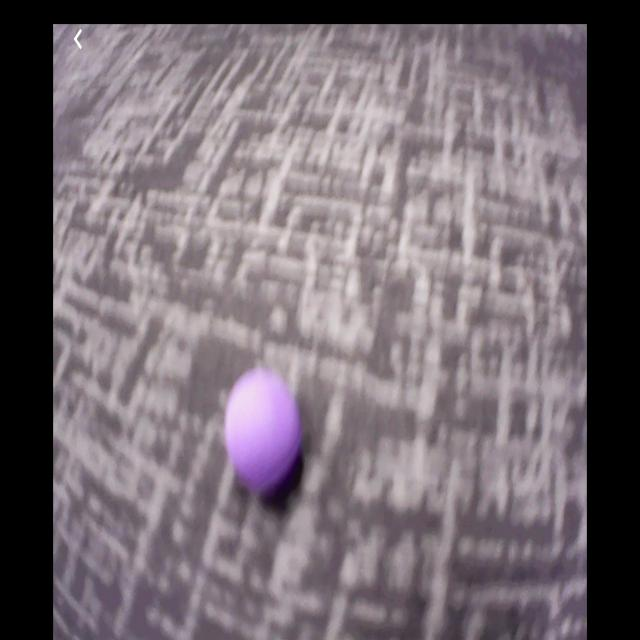ball: (227, 370, 299, 495)
